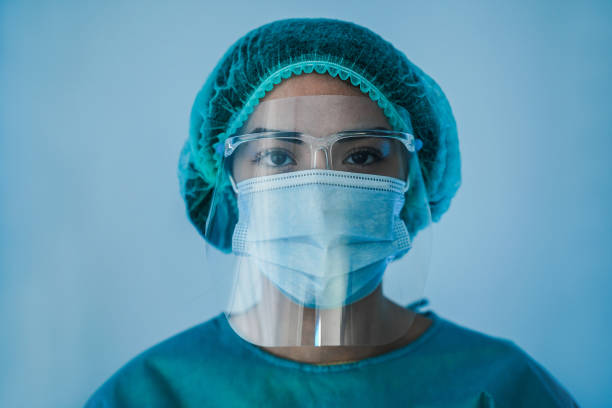with mask: (156, 18, 473, 329)
